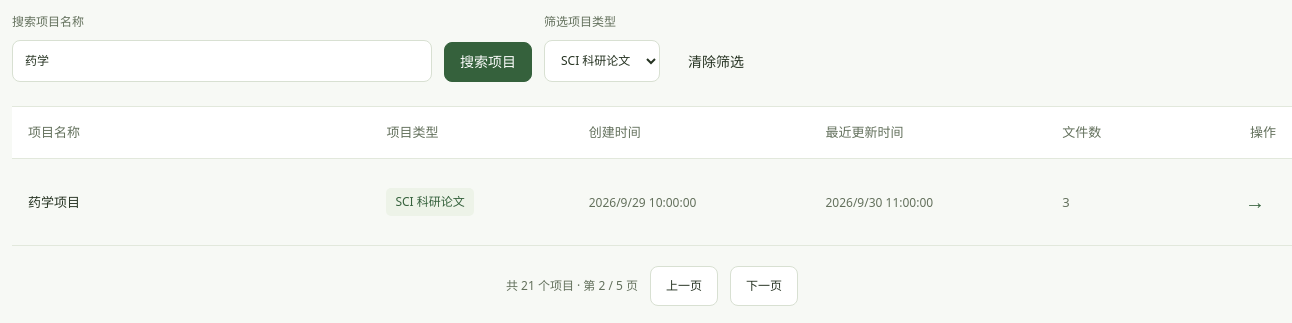
clears both filters and the draft while returning to page one
Type "未提交" into the field labelled "搜索项目名称". click: point(222, 61)
box: left=12, top=40, right=432, bottom=82
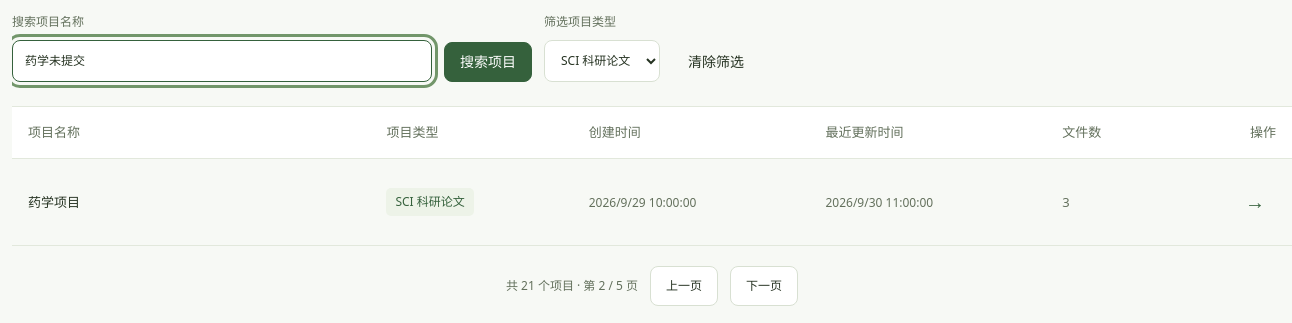
Click the button "清除筛选". click: point(716, 62)
box: left=672, top=42, right=760, bottom=82
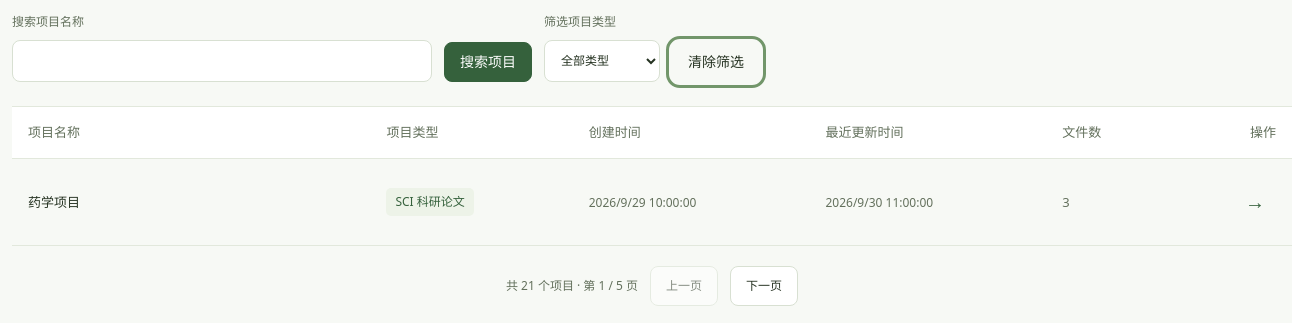
Now the field labelled "搜索项目名称" is empty, box left=12, top=40, right=432, bottom=82
